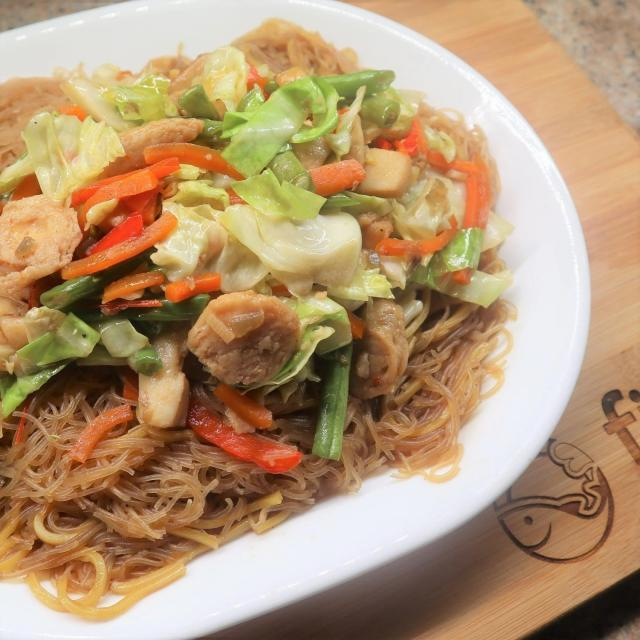pancit bihon: (0, 17, 511, 590)
